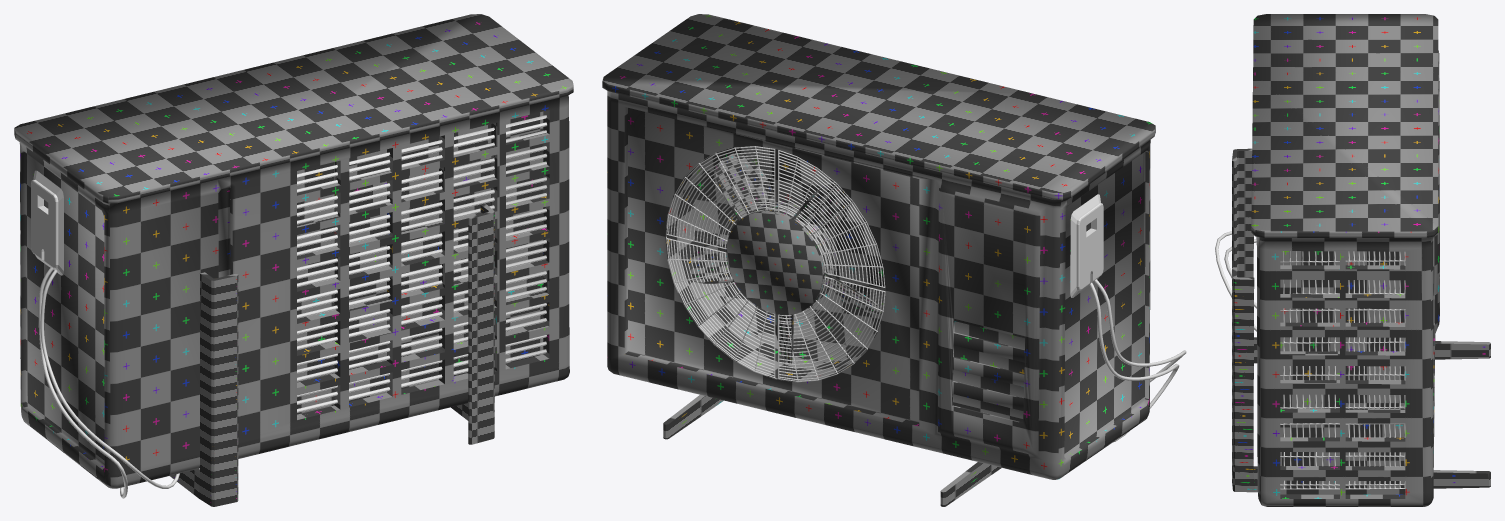
File: aricon.glb
3 renders of one model, left to right at view 1: azimuth 30°, elevation 25°; view 2: azimuth 150°, elevation 25°; view 3: azimuth 270°, elevation 25°, orthographic. The views are drawn at different scales.
Parts seen in each view (by area): view 1: Plane, Plane.002, Plane.005, Plane.001, NurbsPath; view 2: Plane, Plane.002, Cylinder, Plane.001, Plane.005, NurbsPath; view 3: Plane, Plane.005, Plane.002, NurbsPath.
Boxes of the visible parts, <box> form: Plane: <box>14,14,573,488</box>; Plane.002: <box>297,115,546,412</box>; Plane.005: <box>170,203,494,506</box>; Plane.001: <box>31,170,63,275</box>; NurbsPath: <box>38,267,179,498</box>; Plane: <box>602,14,1155,479</box>; Plane.002: <box>666,146,885,381</box>; Cylinder: <box>690,153,881,363</box>; Plane.001: <box>1070,194,1103,297</box>; Plane.005: <box>663,395,1001,506</box>; NurbsPath: <box>1089,279,1186,442</box>; Plane: <box>1251,14,1439,506</box>; Plane.005: <box>1232,148,1490,492</box>; Plane.002: <box>1280,251,1405,489</box>; NurbsPath: <box>1215,231,1256,331</box>.
Size of the model in its own units: 3.15 by 1.98 by 1.63.
Materials: 6 (3 with a texture image).
